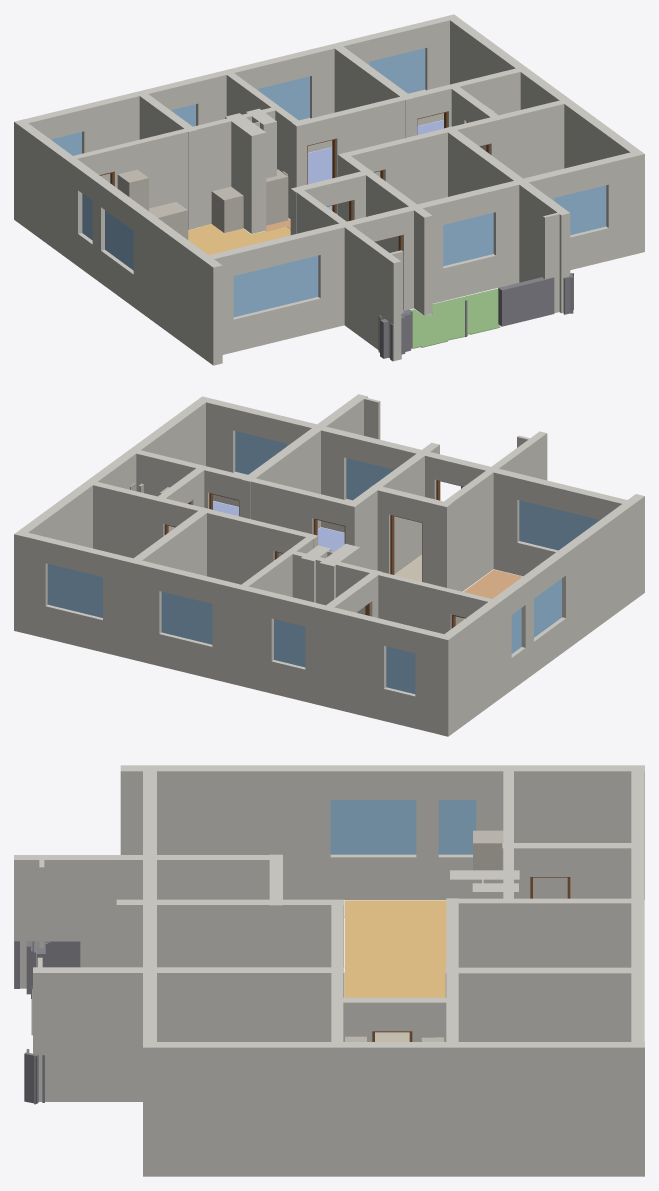
The picture shows the model from 3 angles, top to bottom: view 1: azimuth 30°, elevation 25°; view 2: azimuth 150°, elevation 25°; view 3: azimuth 270°, elevation 25°; orthographic projection. The views are drawn at different scales.
Parts seen in each view (by area): view 1: walls, railings, window_7, floor_12_Outdoor, window_2, floor_4_Kitchen, window_0, window_1, window_3, furniture_7_appliance, window_4, furniture_12_fireplace (+3 smaller); view 2: walls, window_7, window_1, window_3, window_0, window_9, window_6, window_2, window_4, floor_5_Living_Room, floor_9_Bed_Room; view 3: walls, floor_4_Kitchen, window_4, railings, window_16, furniture_0_closet.
Part boxes in pixels (x1,y1,x2,y2): walls: [14, 14, 644, 365]; railings: [378, 273, 573, 361]; window_7: [233, 255, 318, 317]; floor_12_Outdoor: [410, 288, 500, 348]; window_2: [443, 213, 493, 266]; floor_4_Kitchen: [188, 224, 290, 254]; window_0: [554, 185, 606, 235]; window_1: [369, 48, 425, 93]; window_3: [258, 76, 309, 120]; furniture_7_appliance: [211, 186, 243, 232]; window_4: [105, 210, 133, 270]; furniture_12_fireplace: [266, 169, 288, 225]; walls: [14, 394, 644, 736]; window_7: [519, 500, 599, 550]; window_1: [47, 564, 102, 617]; window_3: [161, 592, 212, 644]; window_0: [235, 431, 286, 474]; window_9: [274, 619, 305, 667]; window_6: [386, 646, 415, 693]; window_2: [346, 458, 394, 500]; window_4: [534, 578, 561, 637]; floor_5_Living_Room: [464, 569, 522, 598]; floor_9_Bed_Room: [317, 527, 344, 552]; walls: [14, 765, 644, 1176]; floor_4_Kitchen: [344, 900, 446, 997]; window_4: [330, 800, 416, 854]; railings: [14, 941, 80, 1104]; window_16: [438, 800, 476, 854]; furniture_0_closet: [473, 830, 503, 870].
Bounding box in the file's own units: 12.69 × 2.72 × 11.99.
